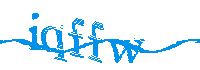f: (85, 16, 105, 64), (69, 15, 85, 58)
i: (28, 11, 40, 52)
q: (41, 21, 68, 62)
w: (105, 35, 145, 66)
